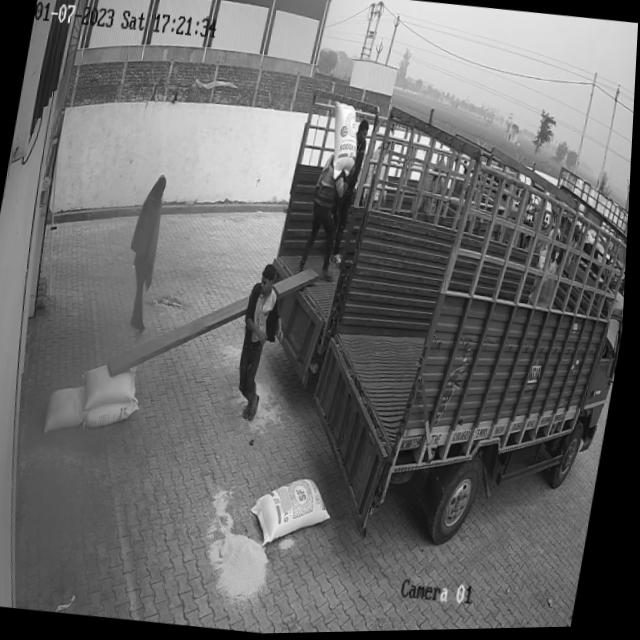sack: (250, 473, 340, 551), (324, 100, 366, 183), (80, 362, 143, 415), (47, 380, 94, 437), (87, 396, 143, 433)
